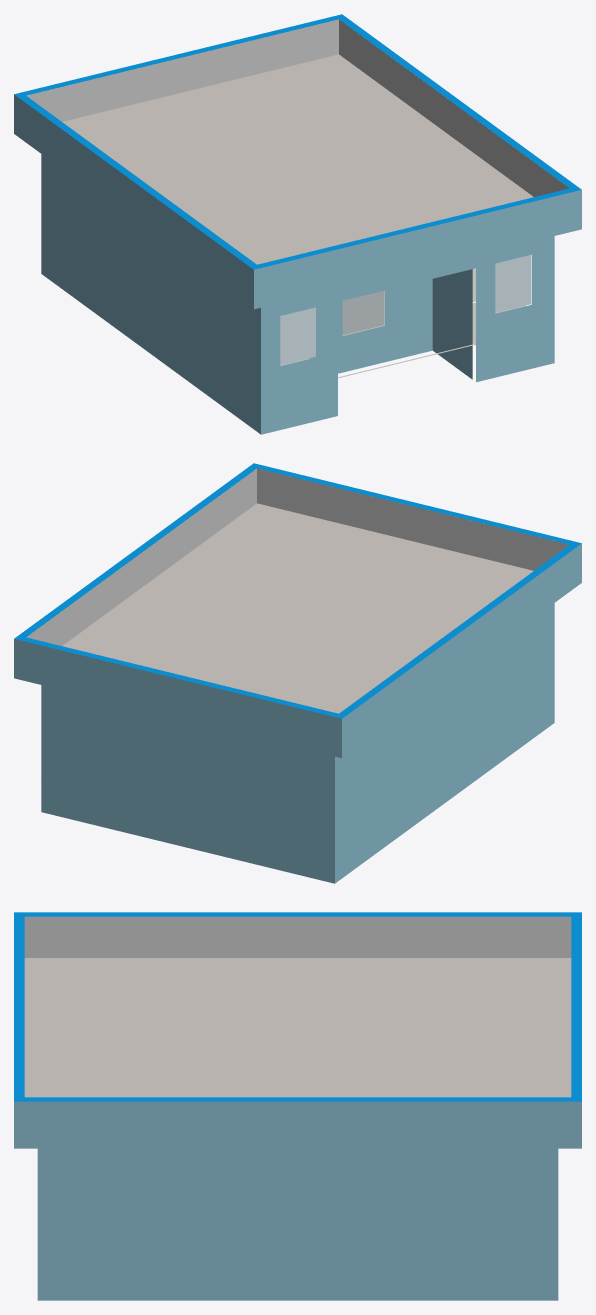
Rendered from house_type_b.glb.
The picture shows the model from 3 angles, top to bottom: view 1: azimuth 30°, elevation 25°; view 2: azimuth 150°, elevation 25°; view 3: azimuth 270°, elevation 25°; orthographic projection. The views are drawn at different scales.
Visible parts, largest first — view 1: roof0; view 2: roof0; view 3: roof0.
Part boxes in pixels (<box>): roof0: <box>14,14,581,434</box>; roof0: <box>14,463,581,883</box>; roof0: <box>14,912,581,1300</box>.
Size of the model in its own units: 113 by 58 by 143.
